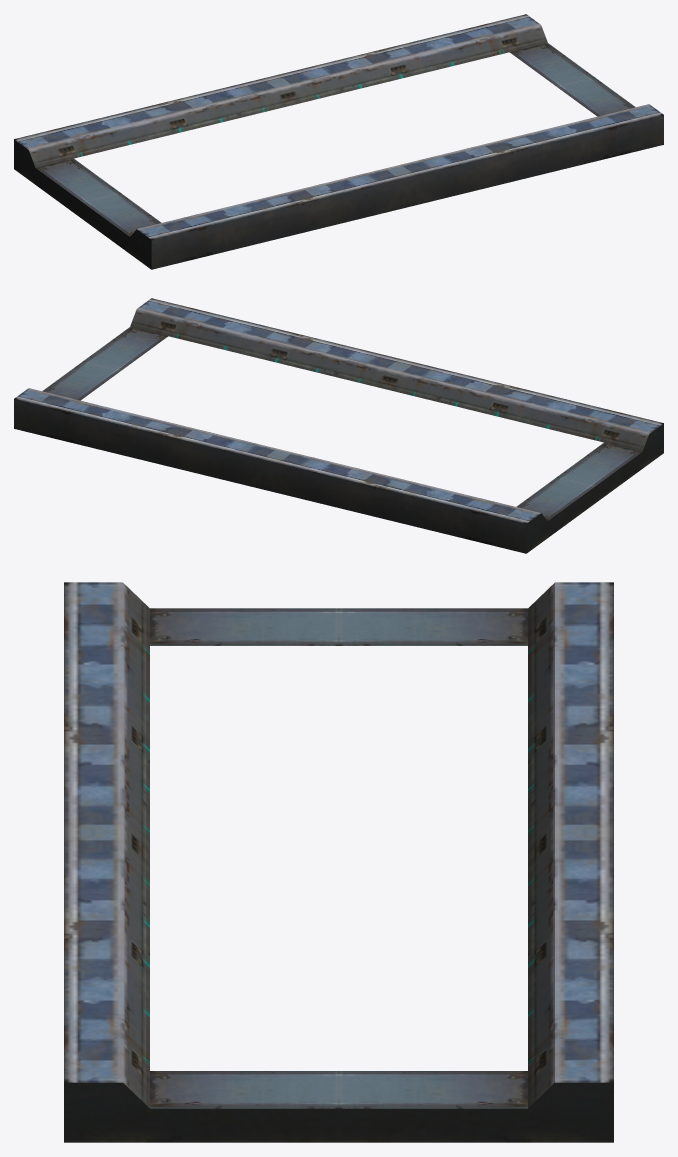
The model's file is yw_gonghuilingdi_jianzhu09.FBX.
The picture shows the model from 3 angles, top to bottom: view 1: azimuth 30°, elevation 25°; view 2: azimuth 150°, elevation 25°; view 3: azimuth 270°, elevation 25°; orthographic projection. The views are drawn at different scales.
Parts seen in each view (by area): view 1: yw_gonghuilingdi_jianzhu09; view 2: yw_gonghuilingdi_jianzhu09; view 3: yw_gonghuilingdi_jianzhu09.
Boxes of the visible parts, x1,y1,x2,y2 form: yw_gonghuilingdi_jianzhu09: (14,14,663,269); yw_gonghuilingdi_jianzhu09: (14,298,663,553); yw_gonghuilingdi_jianzhu09: (64,582,613,1142).
Bounding box in the file's own units: 470 × 26.24 × 218.
